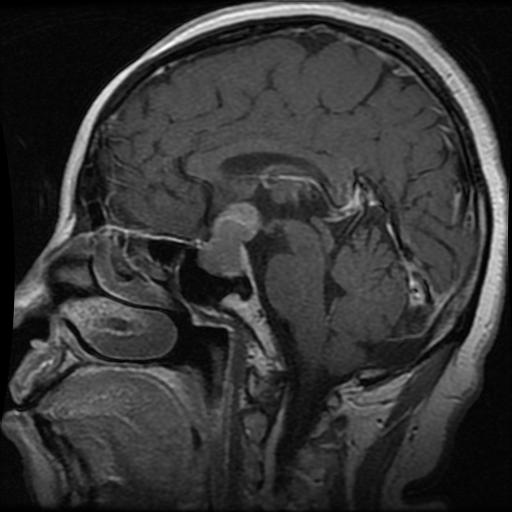Pituirity_tumour: (198, 202, 261, 276)
